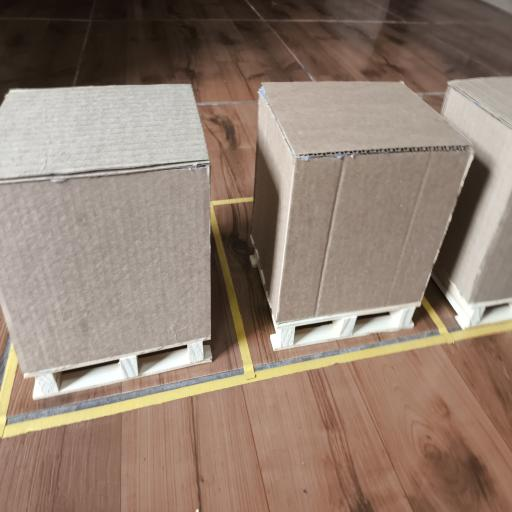pallet: (33, 341, 212, 399), (271, 304, 419, 351), (433, 267, 511, 328)
